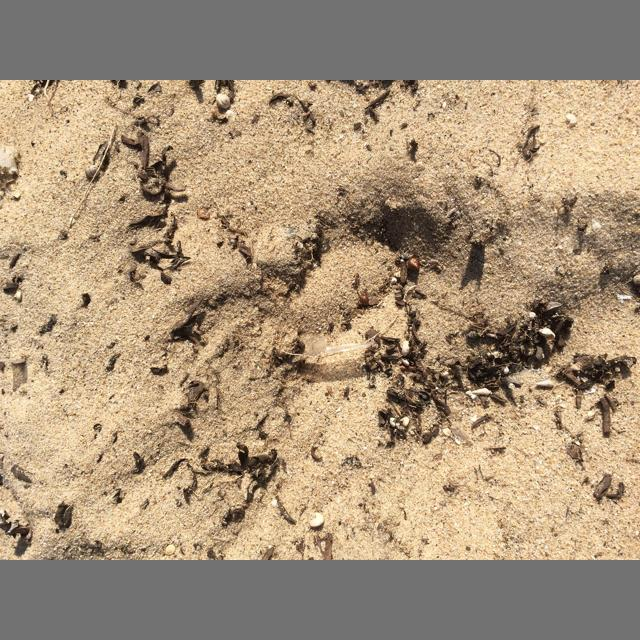litter: (295, 335, 374, 362), (3, 148, 18, 186)
